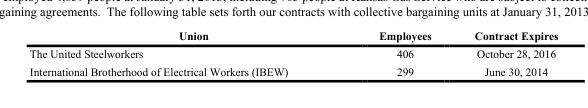table: (28, 29, 557, 77)
table column: (28, 29, 332, 77), (332, 29, 452, 77), (452, 29, 557, 77)
table column header: (28, 29, 557, 44)
table row: (28, 44, 557, 61), (28, 61, 557, 77), (28, 29, 557, 44)
